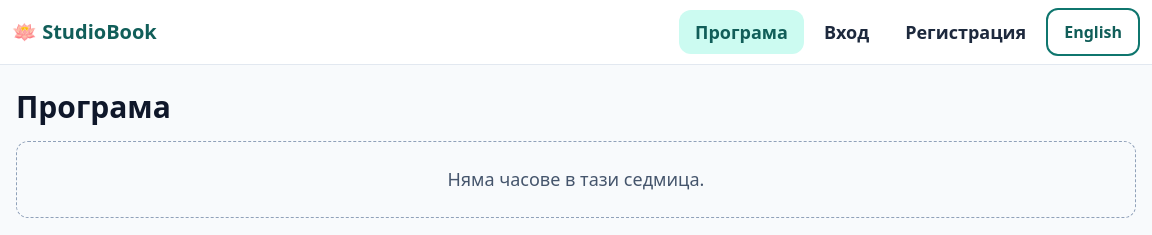
App routing and auth › language switch is persisted and flips the UI
Click the button with aria-label "Език". click: [1093, 32]
box: [1046,8,1140,56]
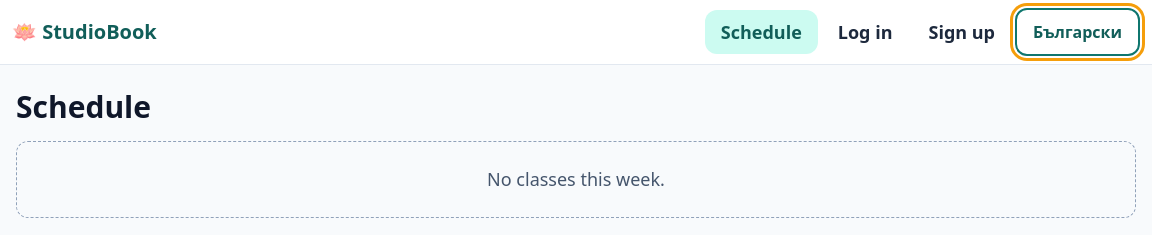
Result: the heading "Schedule" is shown at [16,86,151,127]
